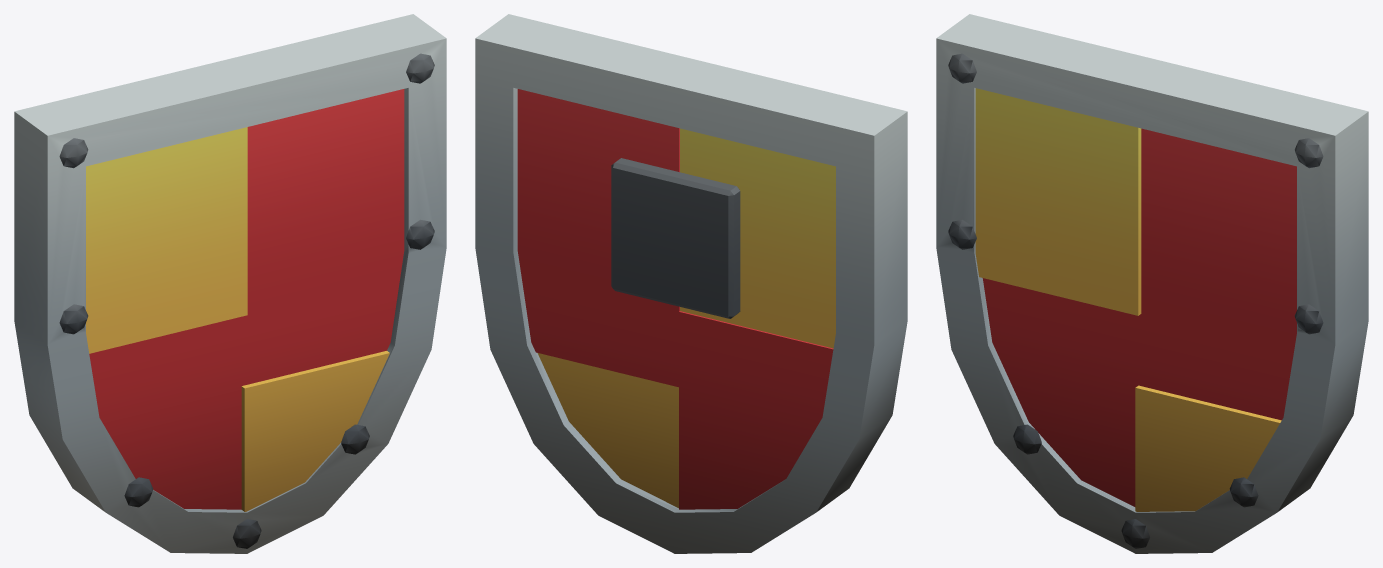
Rendered from shield_quartered.glb.
3 renders of one model, left to right at view 1: azimuth 30°, elevation 25°; view 2: azimuth 150°, elevation 25°; view 3: azimuth 330°, elevation 25°, orthographic.
Visible parts, largest first — view 1: Item; view 2: Item; view 3: Item.
Part boxes in pixels (<box>): Item: <box>14,14,446,553</box>; Item: <box>475,14,907,553</box>; Item: <box>936,14,1368,553</box>.
Size of the model in its own units: 1.11 by 1.24 by 0.202.
Materials: 3 (3 with a texture image).
